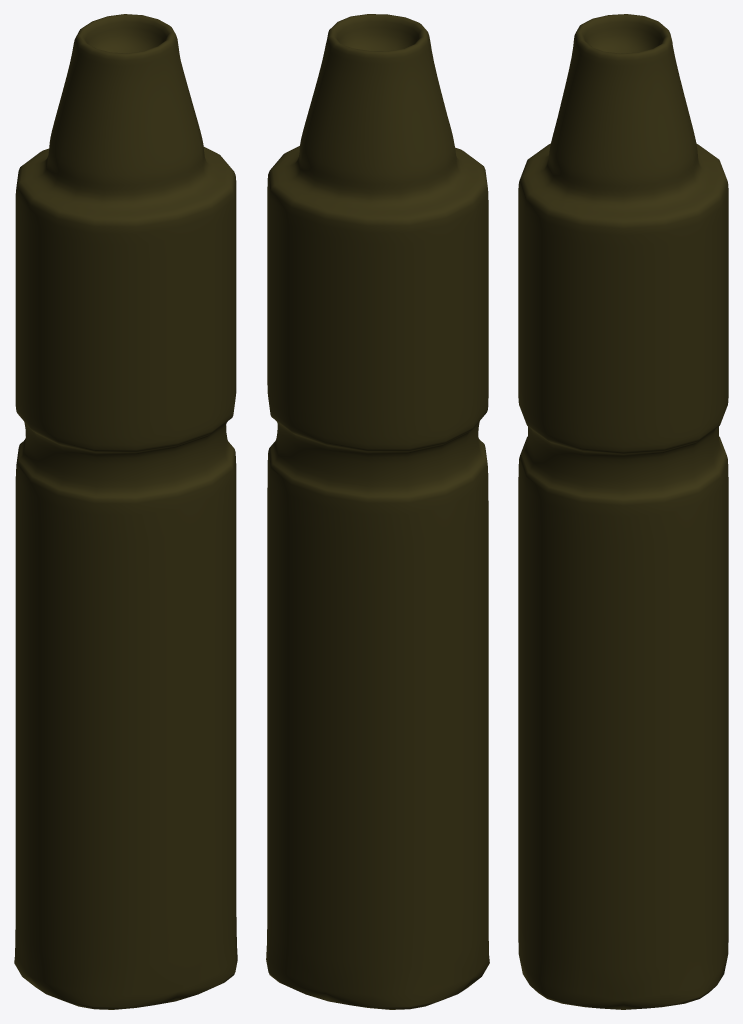
Rendered from glbVape2.glb.
3 views of the same model, side by side, from view 1: azimuth 30°, elevation 25°; view 2: azimuth 150°, elevation 25°; view 3: azimuth 270°, elevation 25° (orthographic).
Parts seen in each view (by area): view 1: Cube.004; view 2: Cube.004; view 3: Cube.004.
Part boxes in pixels (bbox=[...]): Cube.004: bbox=[14, 14, 237, 1009]; Cube.004: bbox=[266, 14, 489, 1009]; Cube.004: bbox=[518, 14, 728, 1009].
Size of the model in its own units: 0.7785 by 3.62 by 0.7377.
